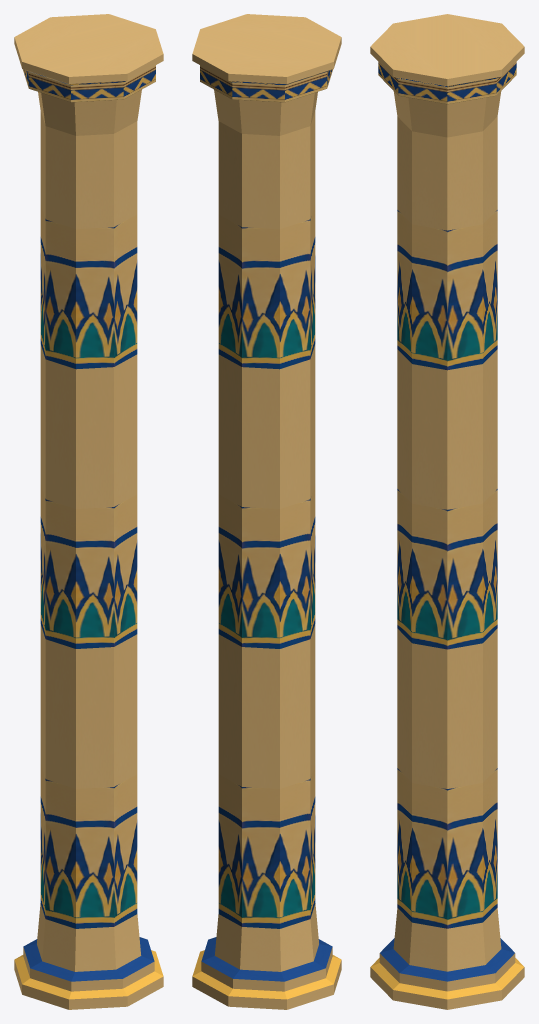
File: rc_column_16m.glb
3 renders of one model, left to right at view 1: azimuth 30°, elevation 25°; view 2: azimuth 150°, elevation 25°; view 3: azimuth 270°, elevation 25°, orthographic.
Parts seen in each view (by area): view 1: SM_RC_Column_16m; view 2: SM_RC_Column_16m; view 3: SM_RC_Column_16m.
Boxes of the visible parts, x1,y1,x2,y2 form: SM_RC_Column_16m: (14, 14, 163, 1009); SM_RC_Column_16m: (192, 14, 341, 1009); SM_RC_Column_16m: (370, 14, 524, 1009).
Size of the model in its own units: 2.4 by 16 by 2.4.
Materials: 1 (1 with a texture image).
